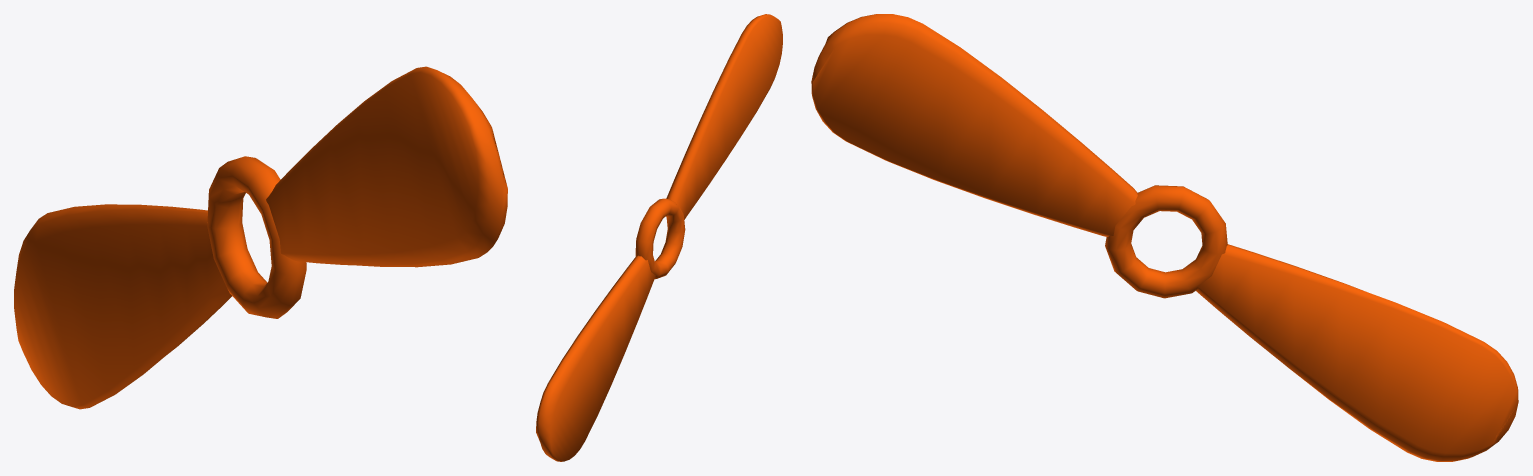
File: Moteur_5_4.FBX
3 renders of one model, left to right at view 1: azimuth 30°, elevation 25°; view 2: azimuth 150°, elevation 25°; view 3: azimuth 270°, elevation 25°, orthographic. The views are drawn at different scales.
Visible parts, largest first — view 1: Rectangle007; view 2: Rectangle007; view 3: Rectangle007.
Boxes of the visible parts, x1,y1,x2,y2 form: Rectangle007: (14, 66, 507, 409); Rectangle007: (536, 14, 782, 461); Rectangle007: (811, 14, 1518, 461).
Bounding box in the file's own units: 1.79 × 33.6 × 48.07.
